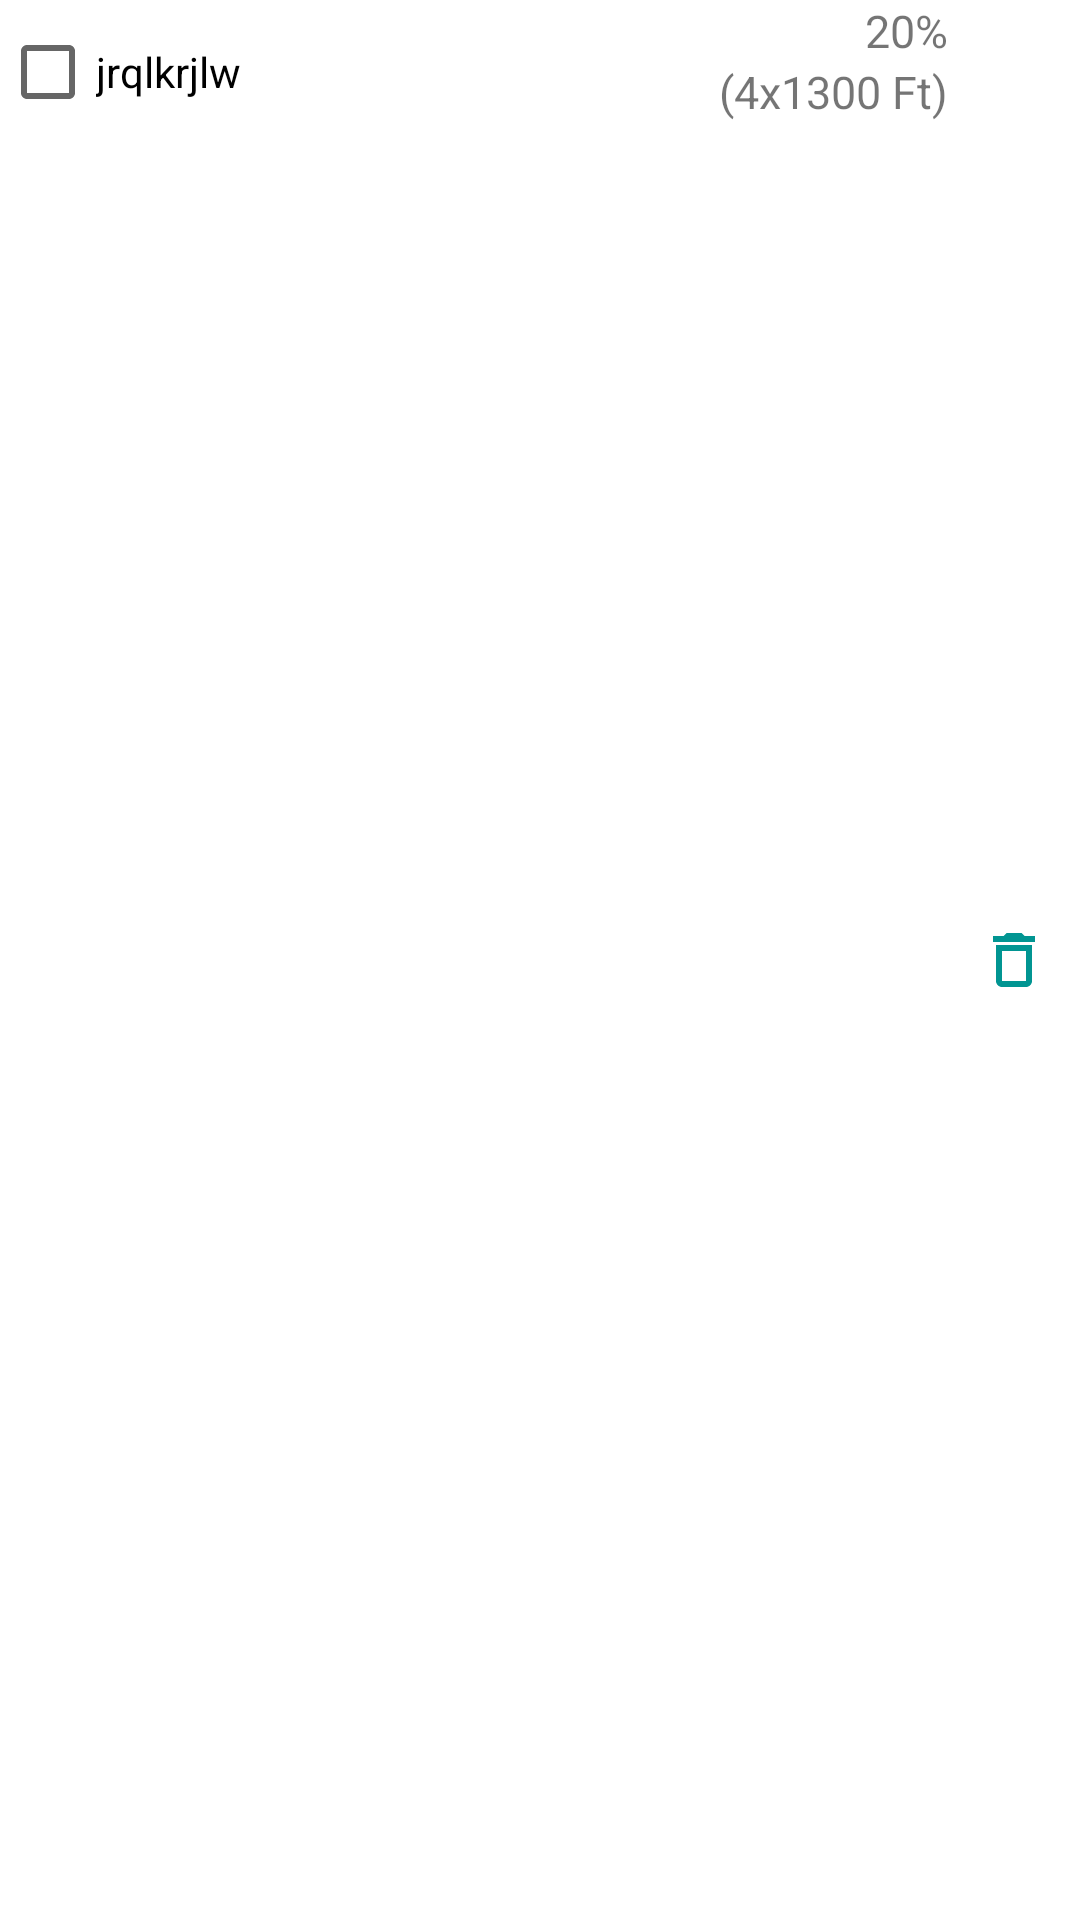

Named icons in this screenshot (1080x1920) and their centers, (x=x, y=y):
delete: (x=1014, y=960)
